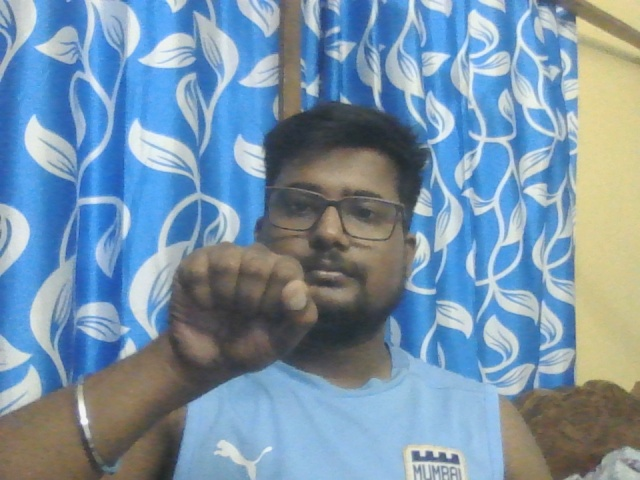A: (168, 241, 319, 370)
